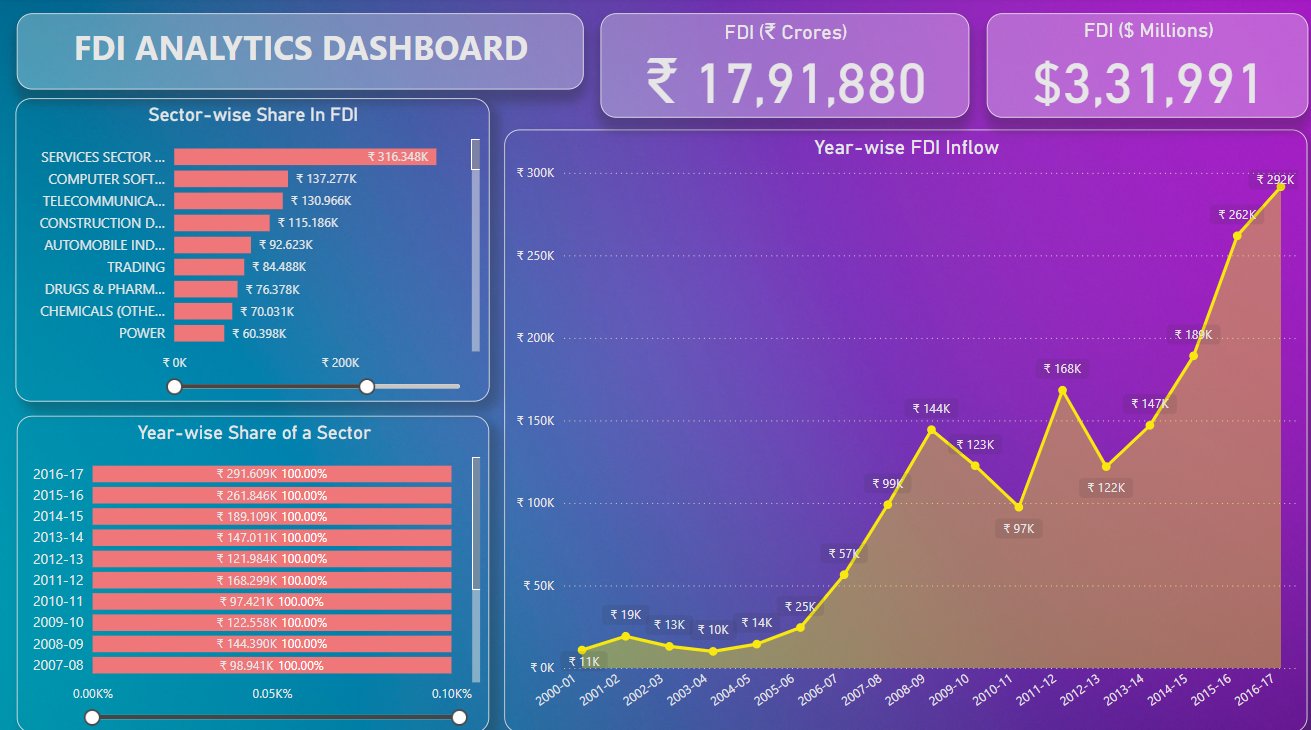

The page's visual inventory and layout, read from the dashboard file:
{"tool":"powerbi","page":{"name":"Sector-wise & Year-wise  FDI Inflow","canvas":[1280,720],"ordinal":0},"visuals":[{"type":"areaChart","title":"Year-wise FDI Inflow","fields":{"Category":["Sheet1.Year"],"Y":["Sum(Sheet1.FDI(₹ Crores))"]},"box":[489,127.6,775.3,582.5],"z":0},{"type":"hundredPercentStackedBarChart","title":"Year-wise Share of a Sector","fields":{"Y":["Sum(Sheet1.FDI(₹ Crores))"],"Category":["Sheet1.Year"]},"box":[18.4,403.9,456.4,306.1],"z":1000},{"type":"card","title":"FDI (₹ Crores)","fields":{"Values":["Imp Insights.Total FDI"]},"box":[581.1,15.6,355.7,100.6],"z":2000},{"type":"card","title":"FDI ($ Millions)","fields":{"Values":["Sum(Sheet1.FDI(US$ Million))"]},"box":[953.9,15.6,310.4,100.6],"z":3000},{"type":"textbox","box":[18.4,15.6,547.1,73.7],"z":5000},{"type":"barChart","title":"Sector-wise Share In FDI","fields":{"Category":["FDI.Sector"],"Y":["Imp Insights.Total FDI"]},"box":[16.9,97.7,457.2,293.2],"z":6000}]}

Visuals, with their boxes in screenshot pixels (x1, y1, x2, y2), scaled from the page's 1280x720 canvas onto the 1311x730 screenshot:
"Year-wise FDI Inflow" areaChart: x1=501 y1=129 x2=1295 y2=720
"Year-wise Share of a Sector" hundredPercentStackedBarChart: x1=19 y1=410 x2=486 y2=720
"FDI (₹ Crores)" card: x1=595 y1=16 x2=959 y2=118
"FDI ($ Millions)" card: x1=977 y1=16 x2=1295 y2=118
textbox: x1=19 y1=16 x2=579 y2=91
"Sector-wise Share In FDI" barChart: x1=17 y1=99 x2=486 y2=396
